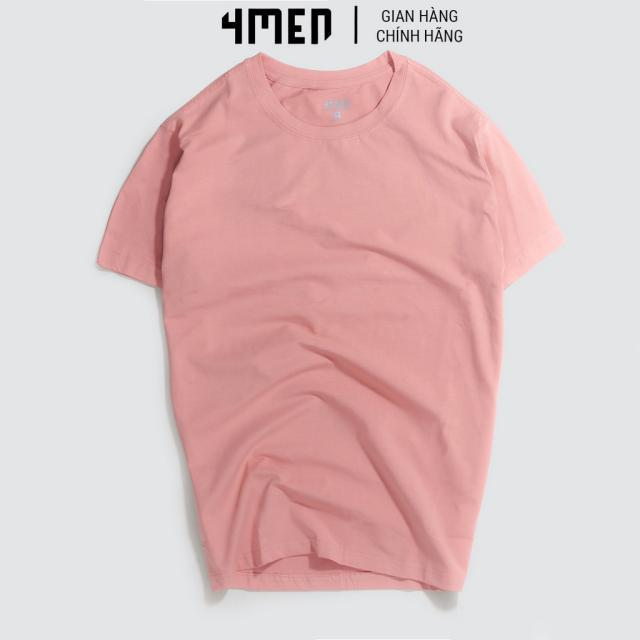Shirt: (90, 49, 564, 600)
